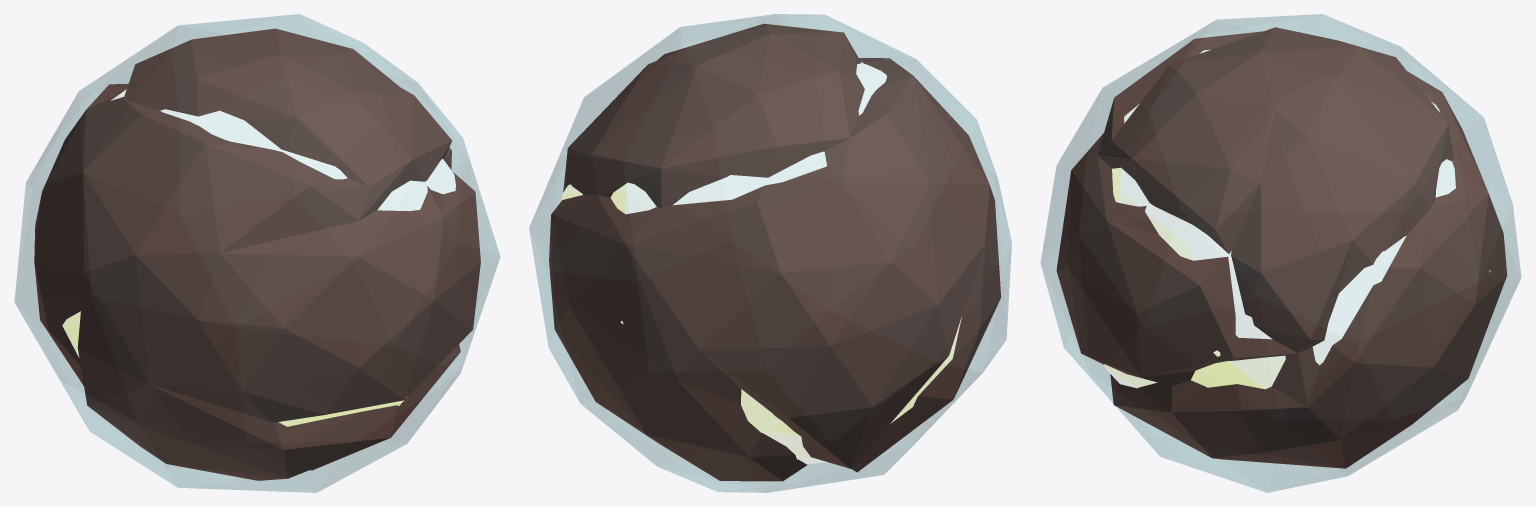
Rendered from Gilese_1132b.fbx.
3 renders of one model, left to right at view 1: azimuth 30°, elevation 25°; view 2: azimuth 150°, elevation 25°; view 3: azimuth 270°, elevation 25°, orthographic. The views are drawn at different scales.
Parts seen in each view (by area): view 1: Gilese_1132b; view 2: Gilese_1132b; view 3: Gilese_1132b.
Boxes of the visible parts, <box> form: Gilese_1132b: <box>14,14,500,492</box>; Gilese_1132b: <box>529,14,1011,492</box>; Gilese_1132b: <box>1040,14,1521,492</box>.
Size of the model in its own units: 208 by 211 by 216.
